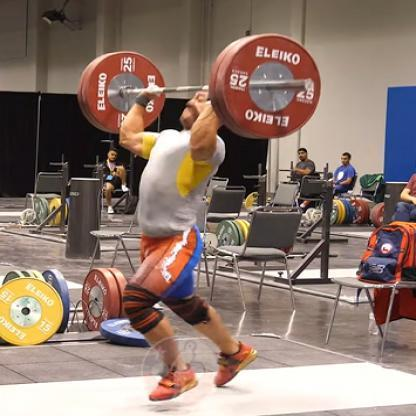barbell: (78, 34, 324, 140)
